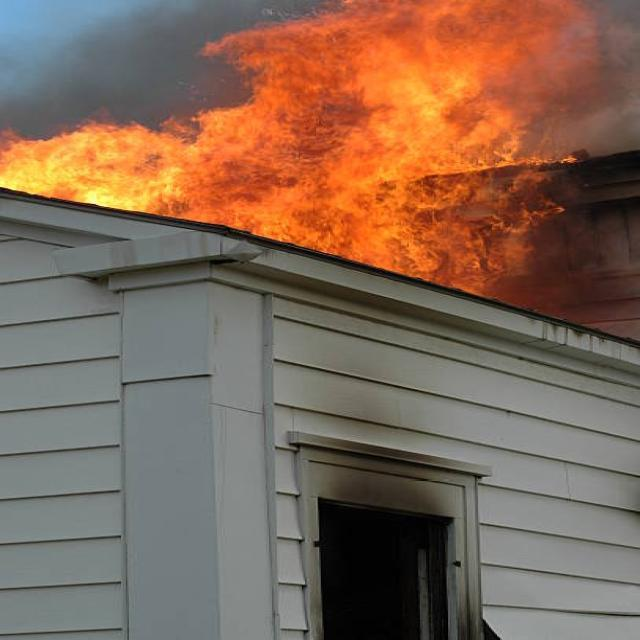Fire: (225, 0, 580, 257), (0, 106, 310, 191)
Smoke: (534, 13, 640, 288), (48, 9, 240, 124)
